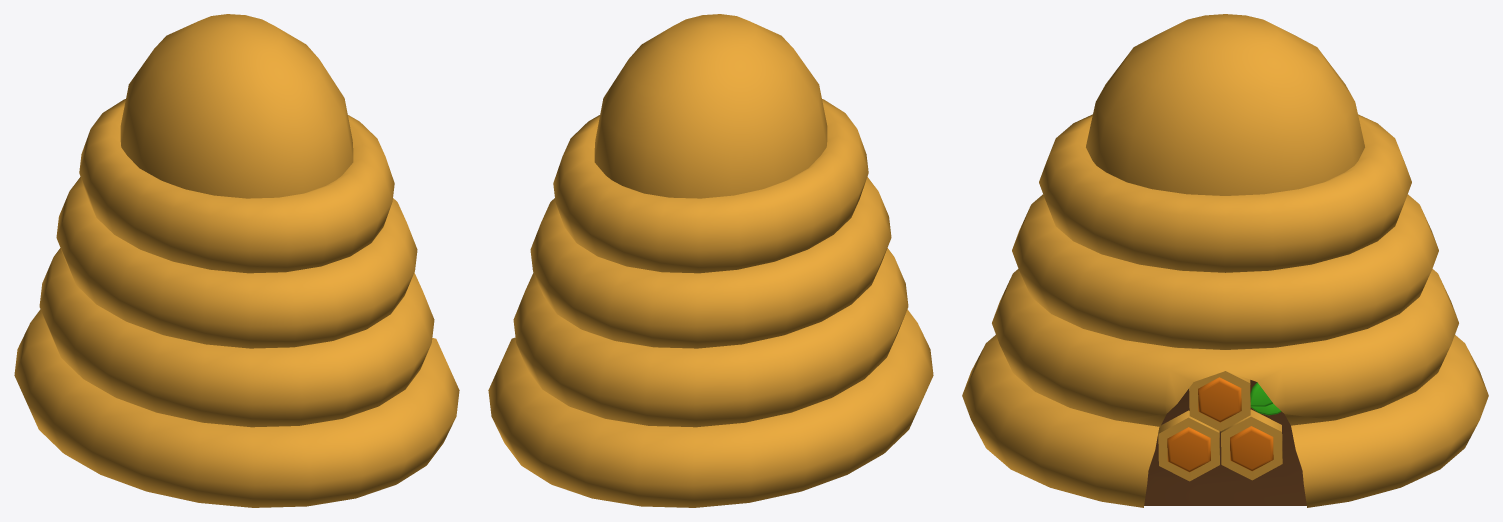
File: hive.fbx
The picture shows the model from 3 angles, left to right: view 1: azimuth 30°, elevation 25°; view 2: azimuth 150°, elevation 25°; view 3: azimuth 270°, elevation 25°; orthographic projection. The views are drawn at different scales.
Parts seen in each view (by area): view 1: hive; view 2: hive; view 3: hive.
Boxes of the visible parts, bbox=[...] form: hive: bbox=[14, 14, 459, 507]; hive: bbox=[488, 14, 933, 507]; hive: bbox=[962, 14, 1488, 507].
Bounding box in the file's own units: 123 × 130 × 150.
